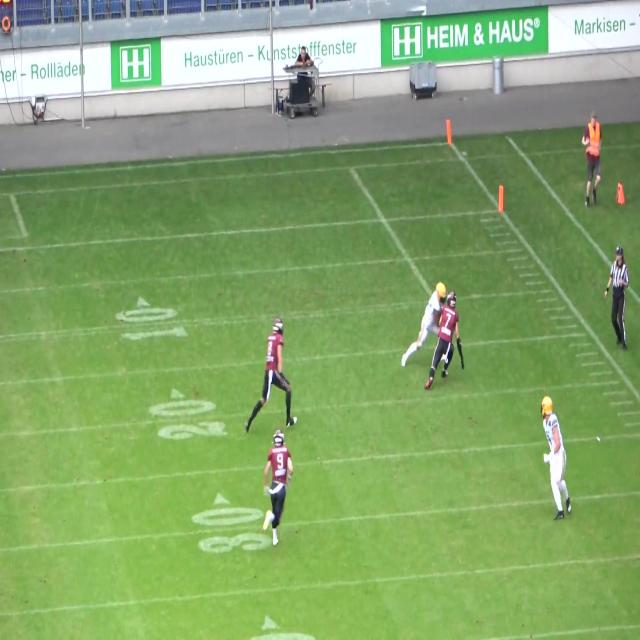american-football-players: (245, 320, 297, 437), (540, 394, 574, 522), (424, 291, 465, 391), (402, 284, 447, 372), (263, 431, 293, 547)
